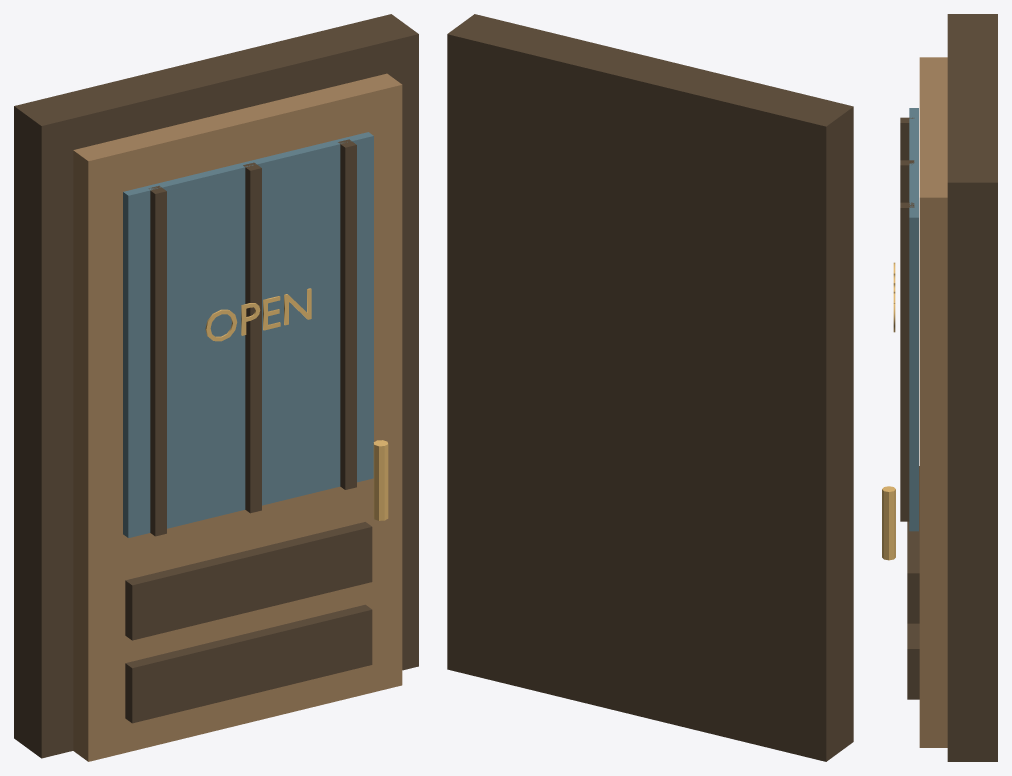
File: SM_RudyPawnshop_Door_Entrance.fbx
The picture shows the model from 3 angles, left to right: view 1: azimuth 30°, elevation 25°; view 2: azimuth 150°, elevation 25°; view 3: azimuth 270°, elevation 25°; orthographic projection. The views are drawn at different scales.
Visible parts, largest first — view 1: RUDY_12_Shop_Door.001, RUDY_41_Door_Open.001; view 2: RUDY_12_Shop_Door.001; view 3: RUDY_12_Shop_Door.001.
Part boxes in pixels (box(x1,y1,x2,y2)): RUDY_12_Shop_Door.001: box(14, 14, 418, 761); RUDY_41_Door_Open.001: box(205, 288, 311, 341); RUDY_12_Shop_Door.001: box(447, 14, 853, 761); RUDY_12_Shop_Door.001: box(882, 14, 997, 761).
Size of the model in its own units: 143 by 41.5 by 229.
